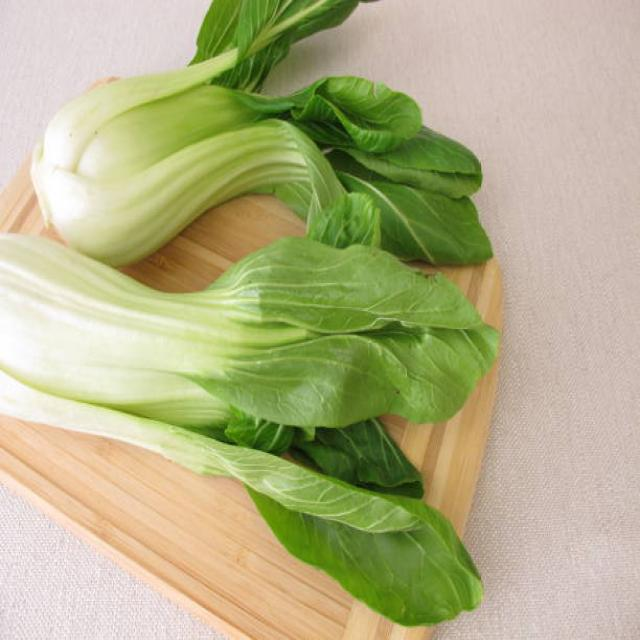bok choy: (8, 249, 503, 549), (31, 0, 494, 241)
